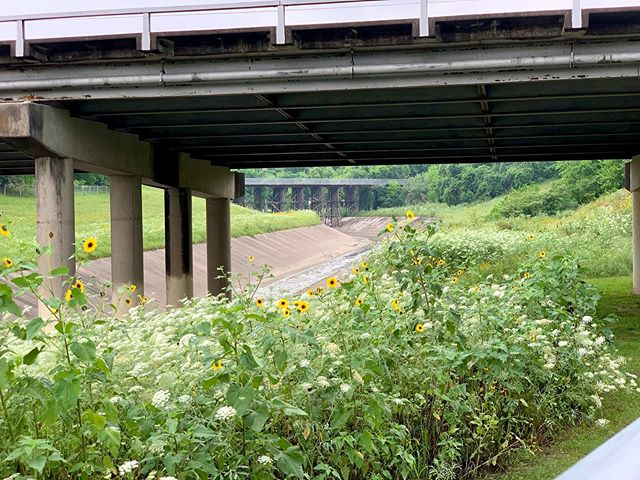bridge: (37, 1, 640, 199)
collumn: (29, 150, 85, 334), (97, 168, 153, 304), (159, 176, 193, 309), (201, 190, 235, 300)
vegetation: (26, 239, 638, 480)
